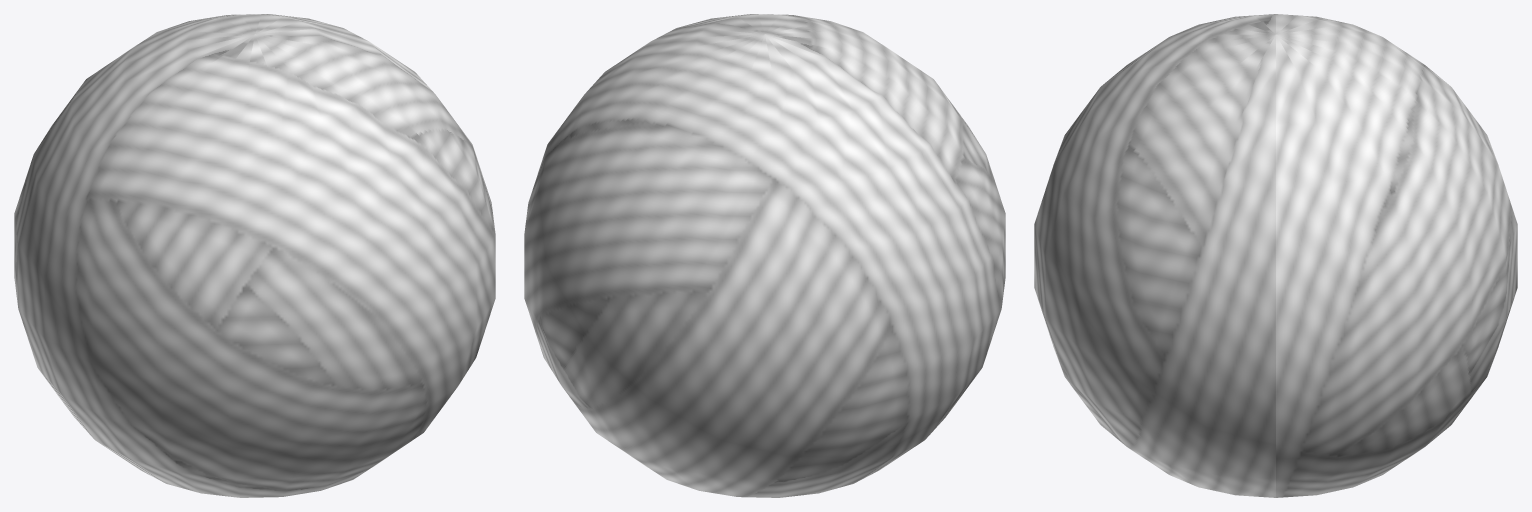
File: yarn_ball.glb
3 views of the same model, side by side, from view 1: azimuth 30°, elevation 25°; view 2: azimuth 150°, elevation 25°; view 3: azimuth 270°, elevation 25° (orthographic).
Parts seen in each view (by area): view 1: YarnBall; view 2: YarnBall; view 3: YarnBall.
Part boxes in pixels (left/top/right/bottom): YarnBall: left=14, top=14, right=495, bottom=497; YarnBall: left=524, top=14, right=1005, bottom=497; YarnBall: left=1034, top=14, right=1517, bottom=497.
Bounding box in the file's own units: 0.4949 × 0.5 × 0.4949.
Materials: 1 (1 with a texture image).
